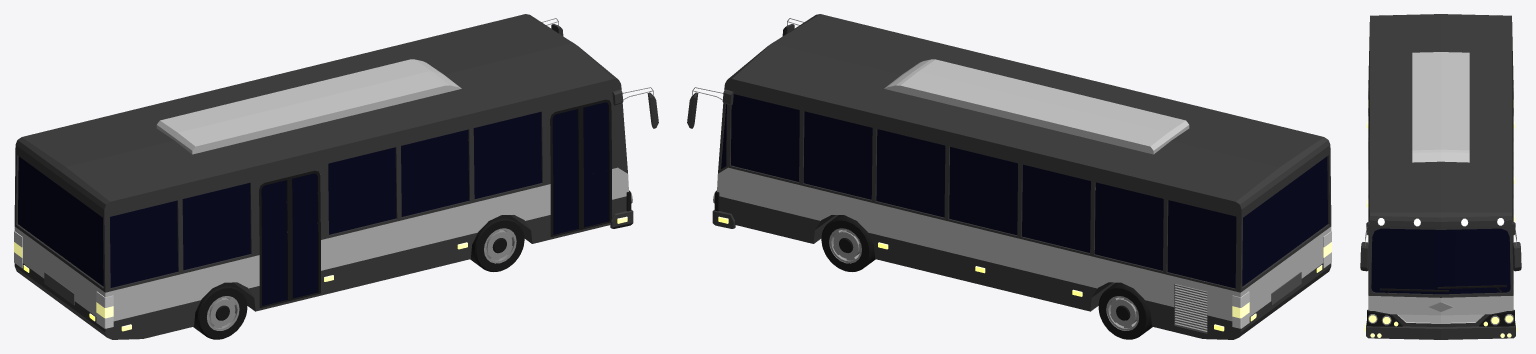
Rendered from bus.glb.
The picture shows the model from 3 angles, left to right: view 1: azimuth 30°, elevation 25°; view 2: azimuth 150°, elevation 25°; view 3: azimuth 270°, elevation 25°; orthographic projection. The views are drawn at different scales.
Parts seen in each view (by area): view 1: cityBus; view 2: cityBus; view 3: cityBus.
Part boxes in pixels (x1,y1,x2,y2): cityBus: (14,14,658,339); cityBus: (687,14,1331,339); cityBus: (1360,14,1521,339).
Bounding box in the file's own units: 981 × 297 × 310.
